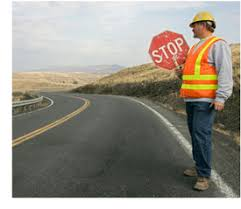stop: (145, 26, 191, 73)
